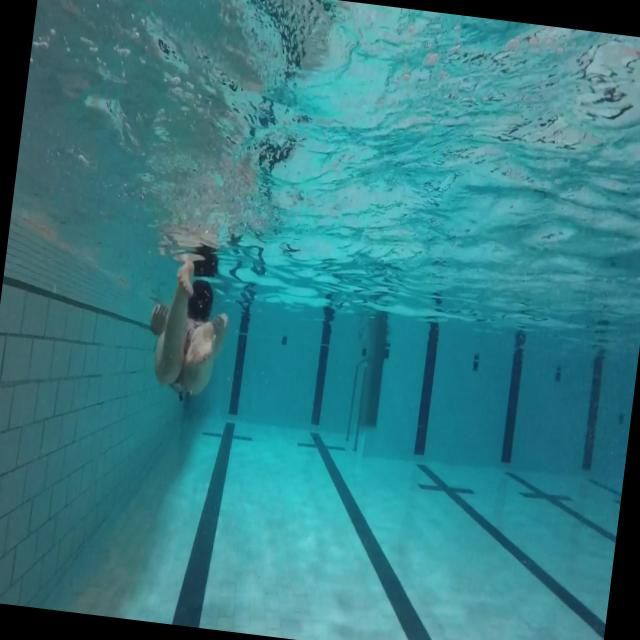human: (140, 252, 237, 408)
